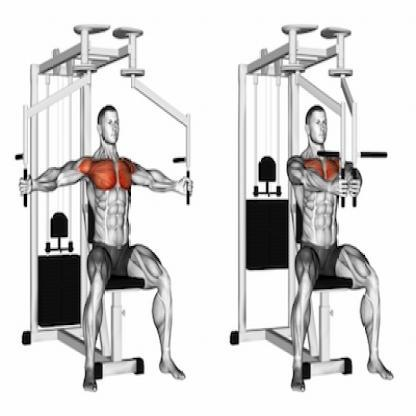chest fly machine: (12, 18, 198, 395), (220, 15, 399, 399)
